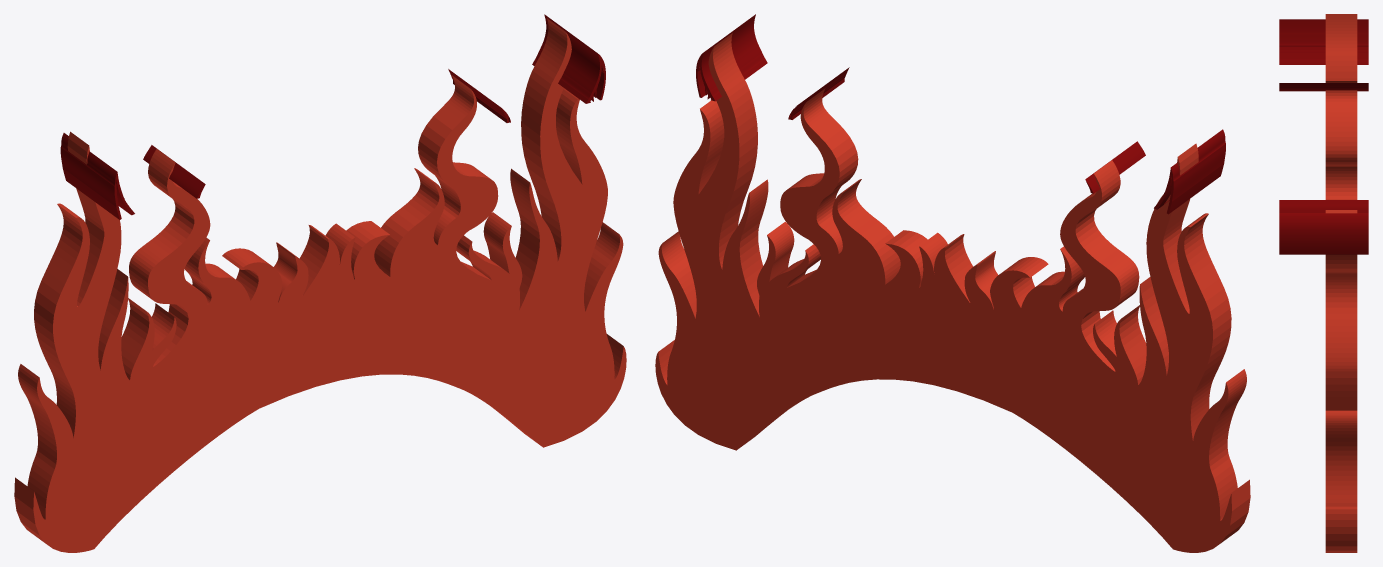
File: fire.glb
3 renders of one model, left to right at view 1: azimuth 30°, elevation 25°; view 2: azimuth 150°, elevation 25°; view 3: azimuth 270°, elevation 25°, orthographic. The views are drawn at different scales.
Visible parts, largest first — view 1: Curve, Curve.001; view 2: Curve, Curve.001; view 3: Curve, Curve.001.
Part boxes in pixels (x1,y1,x2,y2): Curve: [14, 18, 626, 552]; Curve.001: [60, 14, 605, 219]; Curve: [655, 33, 1250, 552]; Curve.001: [696, 14, 1225, 214]; Curve: [1325, 14, 1357, 552]; Curve.001: [1279, 19, 1368, 254].
Size of the model in its own units: 3.01 by 2 by 0.4723.
